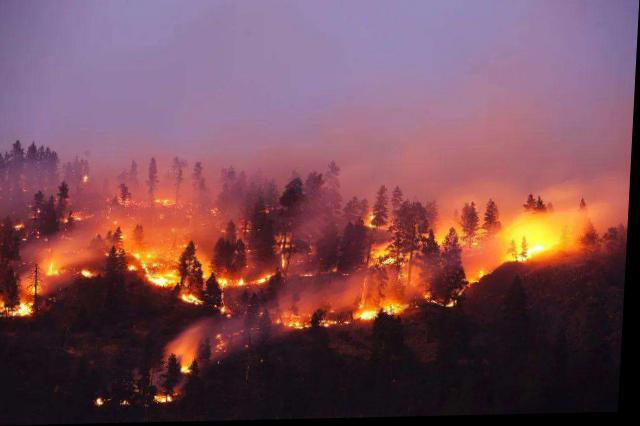fire: (0, 148, 576, 389)
